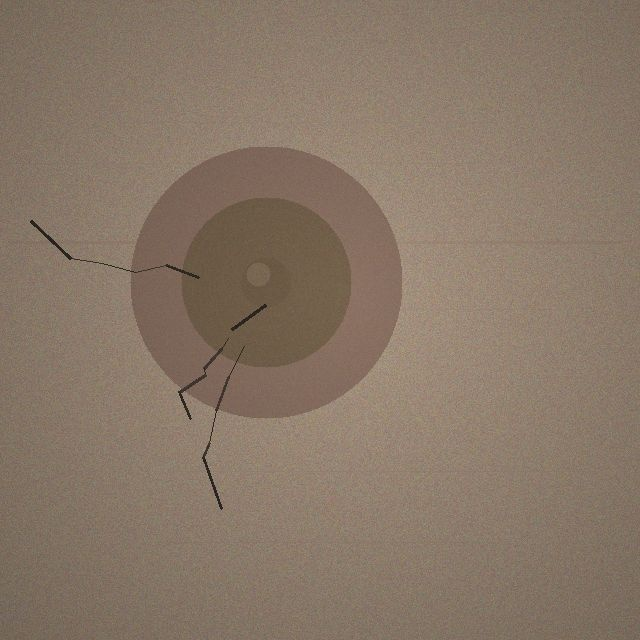crack: (130, 146, 402, 418)
